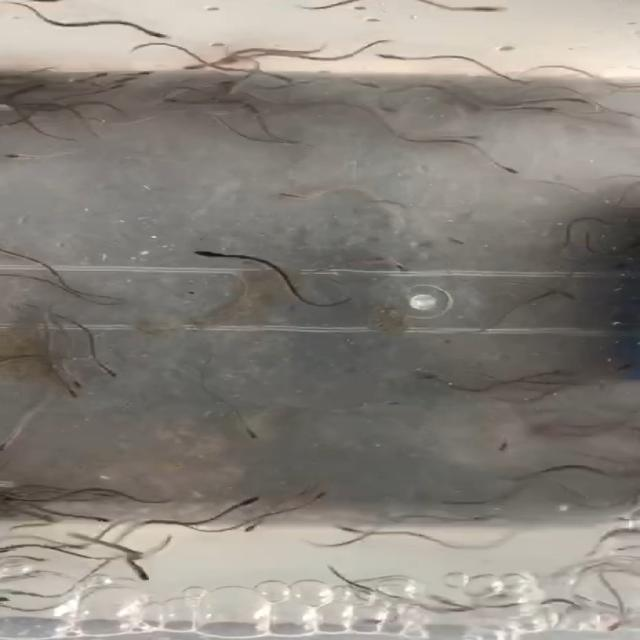active_glass_eel: (116, 64, 167, 82), (82, 582, 121, 604), (429, 589, 470, 609), (49, 377, 84, 400), (337, 526, 387, 542), (83, 364, 118, 385), (184, 248, 232, 263), (517, 99, 557, 116), (555, 597, 595, 614), (68, 367, 100, 388), (296, 491, 340, 506), (105, 548, 158, 560), (66, 538, 105, 554), (384, 261, 418, 279), (137, 25, 172, 42), (227, 496, 263, 512), (367, 51, 410, 64), (469, 3, 508, 17), (240, 427, 266, 448), (447, 131, 489, 144), (276, 186, 310, 202), (47, 96, 74, 115), (568, 425, 602, 440), (238, 518, 272, 533), (81, 117, 117, 131), (418, 367, 449, 383), (184, 57, 219, 71), (578, 167, 618, 179), (549, 283, 581, 298), (490, 440, 520, 456), (0, 491, 39, 503), (133, 570, 156, 590), (203, 112, 229, 129), (0, 434, 19, 456), (352, 78, 384, 91), (154, 94, 180, 110), (424, 62, 458, 74), (375, 399, 406, 412), (82, 514, 117, 525), (500, 57, 534, 68), (498, 162, 525, 175), (558, 93, 588, 104), (242, 42, 271, 53), (8, 153, 43, 162), (80, 70, 110, 80), (271, 73, 300, 83)
